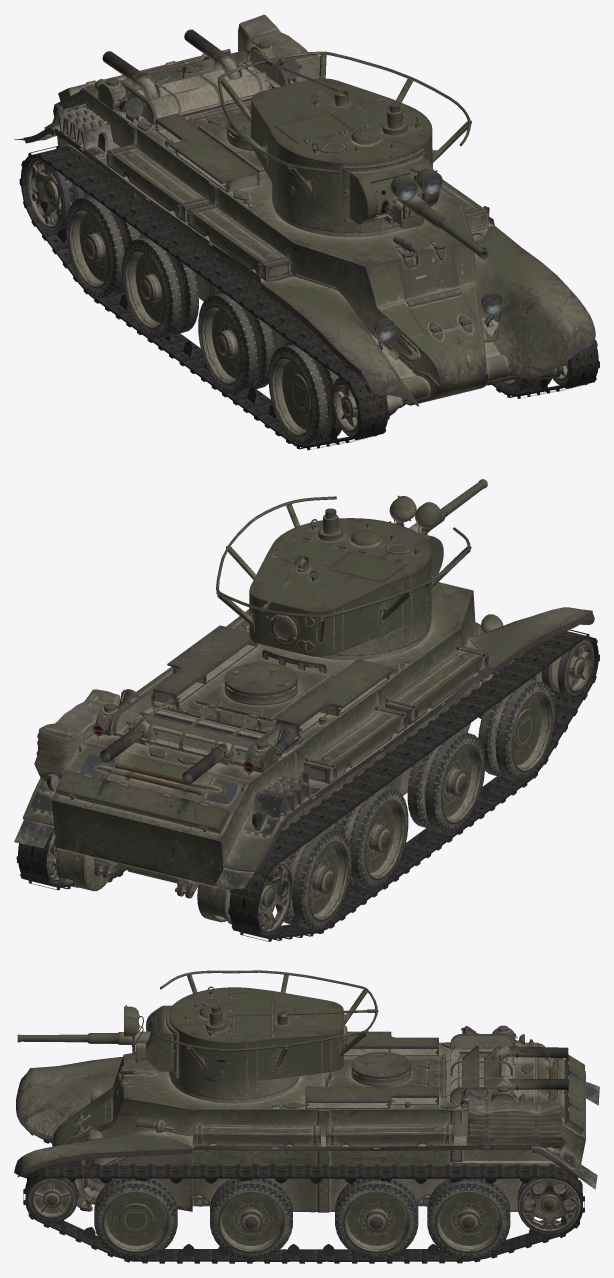
The picture shows the model from 3 angles, top to bottom: view 1: azimuth 30°, elevation 25°; view 2: azimuth 150°, elevation 25°; view 3: azimuth 270°, elevation 25°; orthographic projection. The views are drawn at different scales.
Parts seen in each view (by area): view 1: Object_8, Object_4, Object_2, Object_7, Object_6, Object_5, Object_3; view 2: Object_8, Object_4, Object_2, Object_7, Object_6, Object_5; view 3: Object_8, Object_3, Object_2, Object_5, Object_6.
Part boxes in pixels (x1,y1,x2,y2): Object_8: [14, 14, 595, 415]; Object_4: [26, 156, 405, 445]; Object_2: [218, 51, 471, 237]; Object_7: [19, 146, 389, 450]; Object_6: [371, 168, 488, 259]; Object_5: [492, 340, 599, 398]; Object_3: [486, 360, 569, 394]; Object_8: [14, 582, 594, 924]; Object_4: [258, 638, 594, 936]; Object_2: [216, 496, 471, 660]; Object_7: [228, 629, 599, 941]; Object_6: [389, 479, 487, 534]; Object_5: [16, 827, 126, 890]; Object_8: [14, 1025, 599, 1219]; Object_3: [27, 1178, 581, 1259]; Object_2: [146, 970, 378, 1103]; Object_5: [23, 1163, 584, 1263]; Object_6: [17, 1005, 157, 1062].
Size of the model in its own units: 2.28 by 2.41 by 5.78.
Materials: 6 (6 with a texture image).
